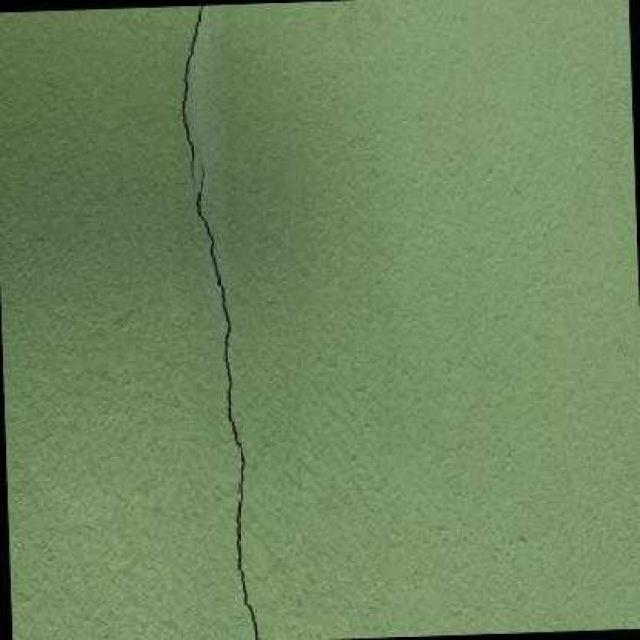D00: (195, 163, 258, 640), (181, 4, 203, 190)
